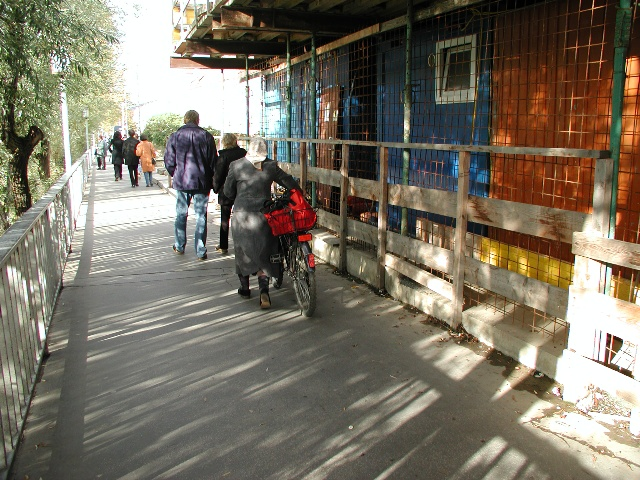person: (224, 132, 280, 311), (164, 107, 218, 257)
